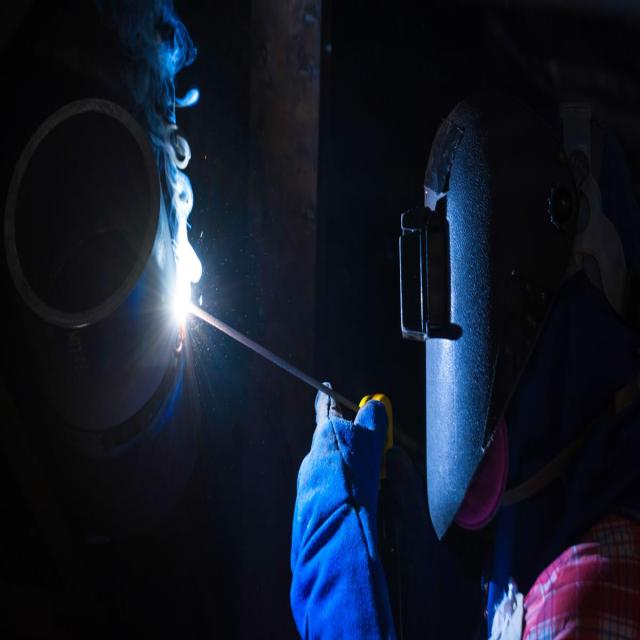welding: (172, 267, 190, 324)
